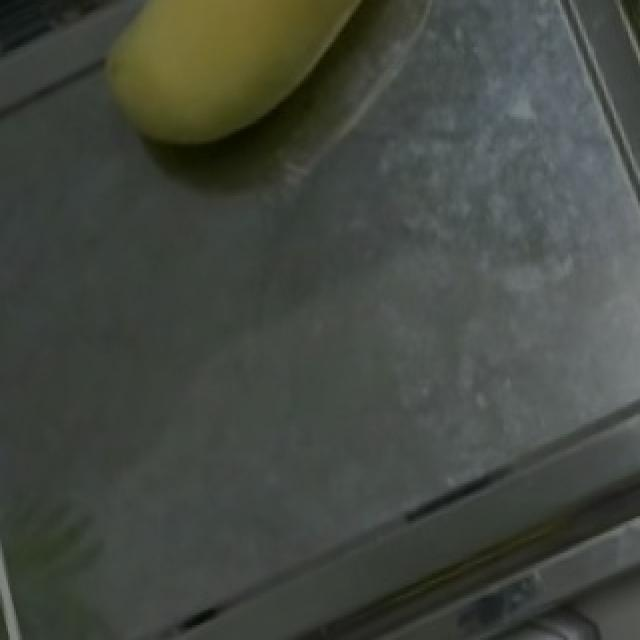fruit: (62, 0, 414, 196)
